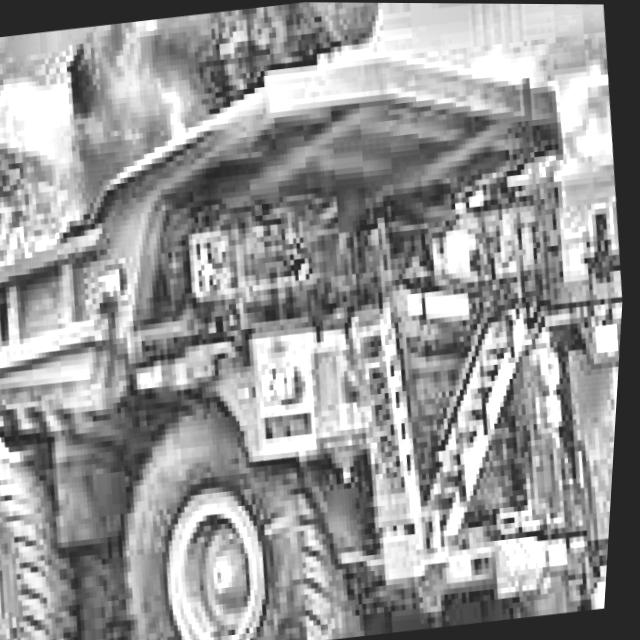dump_truck: (0, 33, 618, 640)
